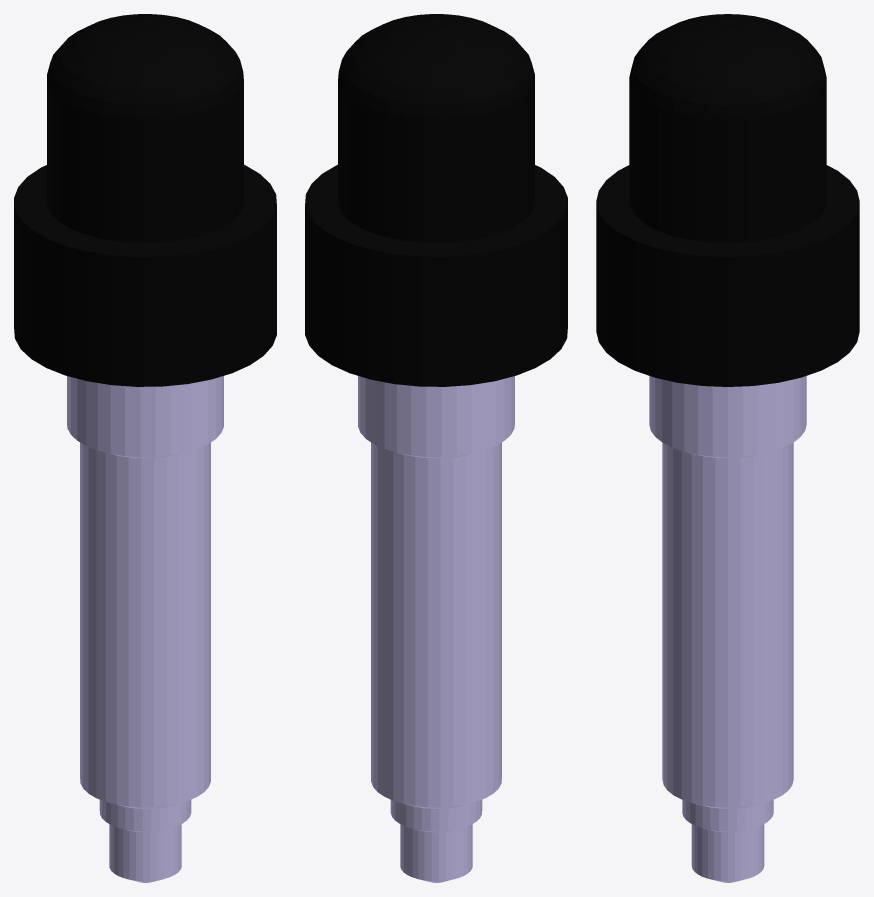
Rendered from pipette_cap.fbx.
3 renders of one model, left to right at view 1: azimuth 30°, elevation 25°; view 2: azimuth 150°, elevation 25°; view 3: azimuth 270°, elevation 25°, orthographic.
Visible parts, largest first — view 1: Cylinder.001; view 2: Cylinder.001; view 3: Cylinder.001.
Boxes of the visible parts, x1,y1,x2,y2 form: Cylinder.001: (14,14,276,882); Cylinder.001: (305,14,567,882); Cylinder.001: (596,14,859,882).
Bounding box in the file's own units: 4.41 × 15.68 × 4.41.
1 material, 1 textured.
